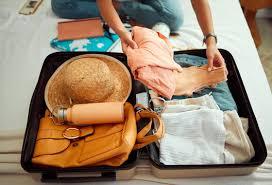suitcase: (18, 41, 271, 174)
